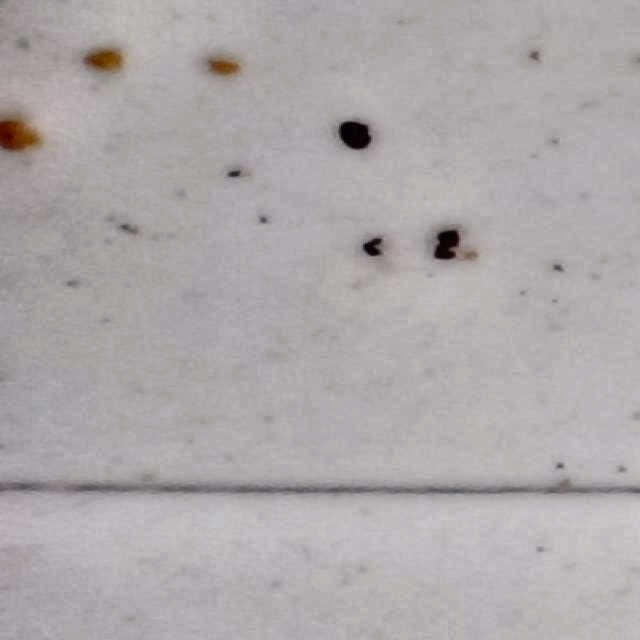varroa: (337, 118, 376, 155)
